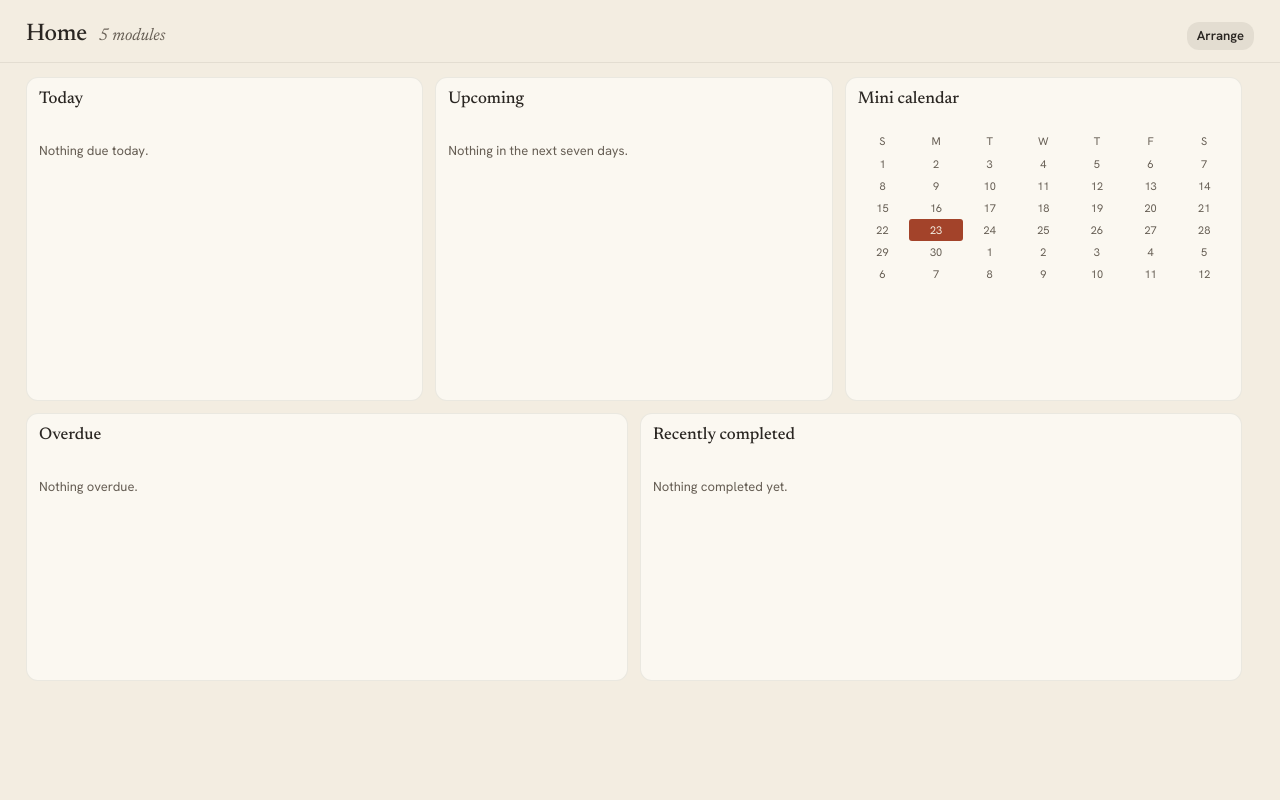
<HomeView> under Field notes › arranges without a tooltip, a hint or a blurb
expect the text "Today" is shown: met, box [39,87,83,112]
Step 1. Click the button "Arrange" → (1220, 36), box [1187,22,1254,50]
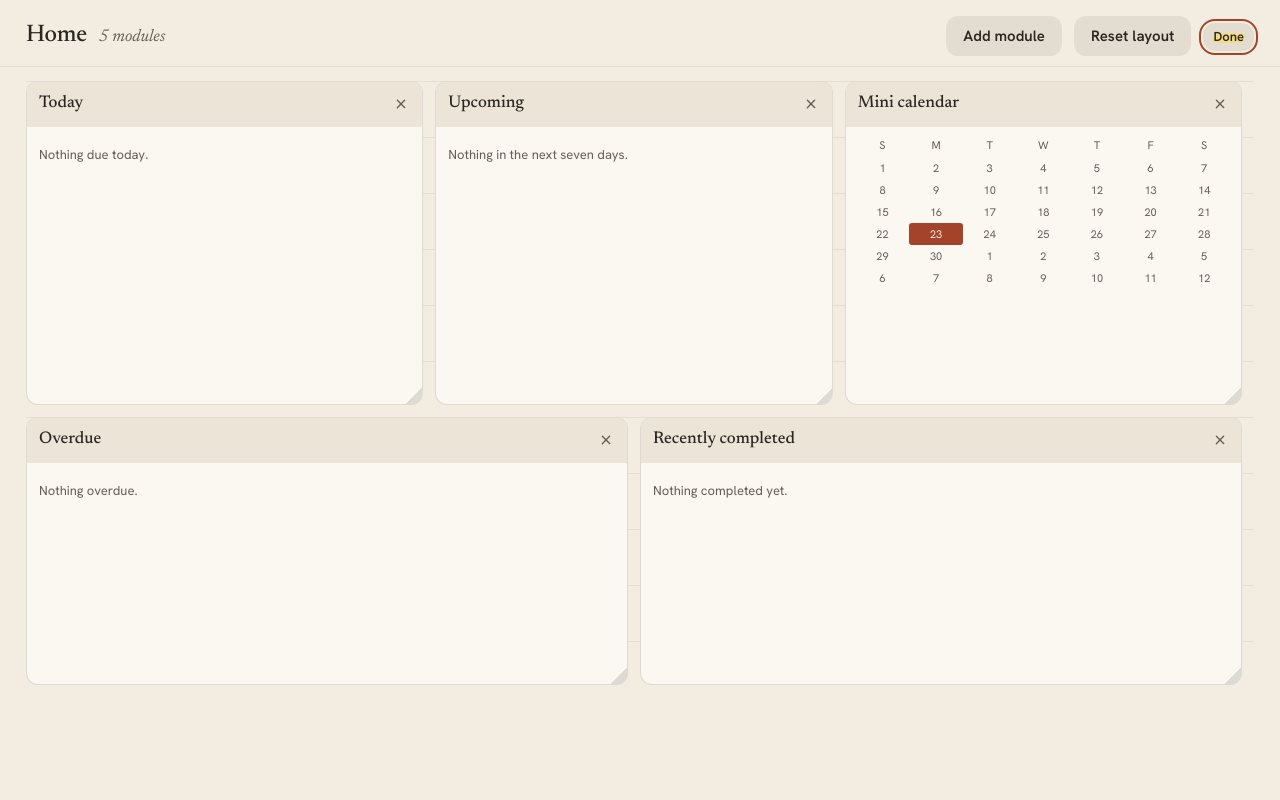
expect the text with class "content-sub" reads "5 modules": met, box [99,29,166,46]
expect the 1st icon with class "icon-ink" is shown: met, box [393,96,409,112]
expect the button named "remove today" reads "✕": met, box [392,96,410,112]
Step 2. Click the button "Add module" → (1004, 36), box [946,16,1062,56]
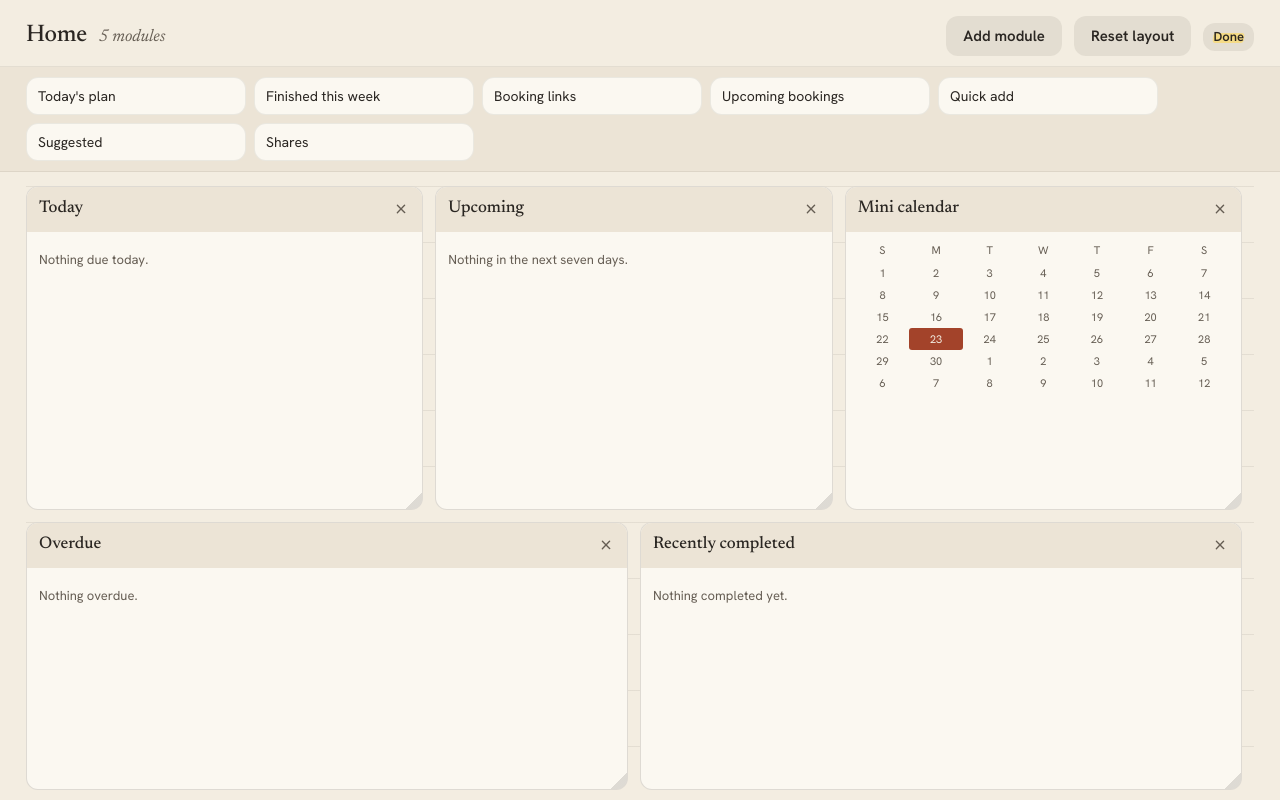
expect the dialog is shown: met, box [0,67,1279,172]
expect the button with class "dash-pick" showing "Today's plan" is shown: met, box [26,77,246,115]
